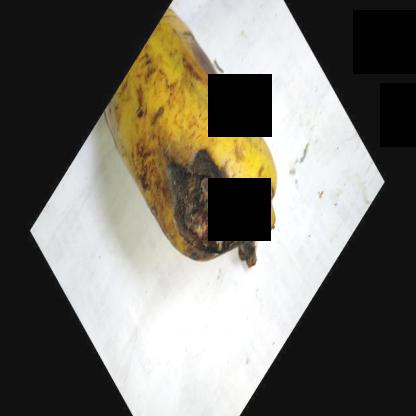ripe: (97, 7, 246, 145)
rotten: (114, 96, 284, 266)
